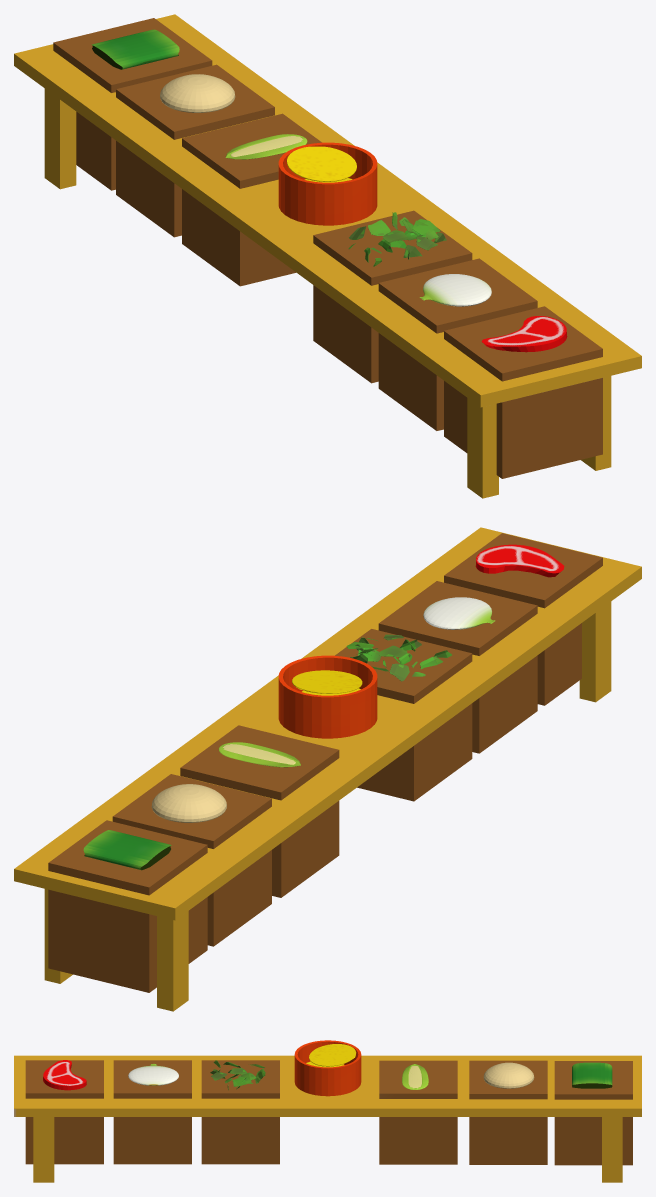
The model's file is mesaSupplies.obj.
3 views of the same model, one above another, from view 1: azimuth 30°, elevation 25°; view 2: azimuth 150°, elevation 25°; view 3: azimuth 270°, elevation 25° (orthographic). The views are drawn at different scales.
Visible parts, largest first — view 1: Cube, Cube.001, Cube.005, Cube.002, Cube.003, Cube.006, Cube.007, Cylinder.001, Sphere.002, Cylinder.004, Cube.020, Cylinder.005 (+3 smaller); view 2: Cube, Cube.007, Cube.005, Cube.002, Cube.003, Cube.006, Cube.001, Cylinder.001, Sphere.002, Cylinder.004, Cylinder, Sphere (+3 smaller); view 3: Cube, Cube.005, Cube.003, Cube.002, Cube.006, Cube.001, Cube.007, Cylinder.001, Sphere.002, Cylinder.004, Cylinder, Cylinder.005 (+3 smaller).
Boxes of the visible parts, x1=… form: Cube: x1=14, y1=14, x2=641, y2=498; Cube.001: x1=444, y1=306, x2=602, y2=478; Cube.005: x1=182, y1=113, x2=321, y2=286; Cube.002: x1=378, y1=258, x2=537, y2=430; Cube.003: x1=313, y1=210, x2=472, y2=383; Cube.006: x1=116, y1=64, x2=274, y2=237; Cube.007: x1=53, y1=18, x2=212, y2=190; Cylinder.001: x1=278, y1=142, x2=377, y2=225; Sphere.002: x1=160, y1=74, x2=235, y2=112; Cylinder.004: x1=91, y1=29, x2=179, y2=69; Cube.020: x1=348, y1=212, x2=446, y2=266; Cylinder.005: x1=286, y1=146, x2=356, y2=181; Cube: x1=14, y1=527, x2=641, y2=1011; Cube.007: x1=48, y1=820, x2=207, y2=992; Cube.005: x1=180, y1=725, x2=339, y2=897; Cube.002: x1=378, y1=581, x2=537, y2=753; Cube.003: x1=335, y1=629, x2=472, y2=801; Cube.006: x1=112, y1=774, x2=271, y2=946; Cube.001: x1=444, y1=533, x2=602, y2=705; Cylinder.001: x1=278, y1=655, x2=377, y2=738; Sphere.002: x1=151, y1=784, x2=226, y2=822; Cylinder.004: x1=83, y1=830, x2=171, y2=870; Cylinder: x1=475, y1=544, x2=564, y2=577; Sphere: x1=423, y1=597, x2=495, y2=629; Cube: x1=14, y1=1055, x2=641, y2=1182; Cube.005: x1=379, y1=1060, x2=457, y2=1164; Cube.003: x1=201, y1=1060, x2=279, y2=1164; Cube.002: x1=113, y1=1060, x2=191, y2=1164; Cube.006: x1=469, y1=1060, x2=547, y2=1164; Cube.001: x1=25, y1=1060, x2=103, y2=1164; Cube.007: x1=554, y1=1061, x2=632, y2=1165; Cylinder.001: x1=294, y1=1040, x2=361, y2=1096; Sphere.002: x1=483, y1=1062, x2=534, y2=1088; Cylinder.004: x1=572, y1=1062, x2=612, y2=1088; Cylinder: x1=43, y1=1060, x2=86, y2=1090; Cylinder.005: x1=309, y1=1044, x2=356, y2=1066.
Bounding box in the file's own units: 1.99 × 1.9 × 9.99.
